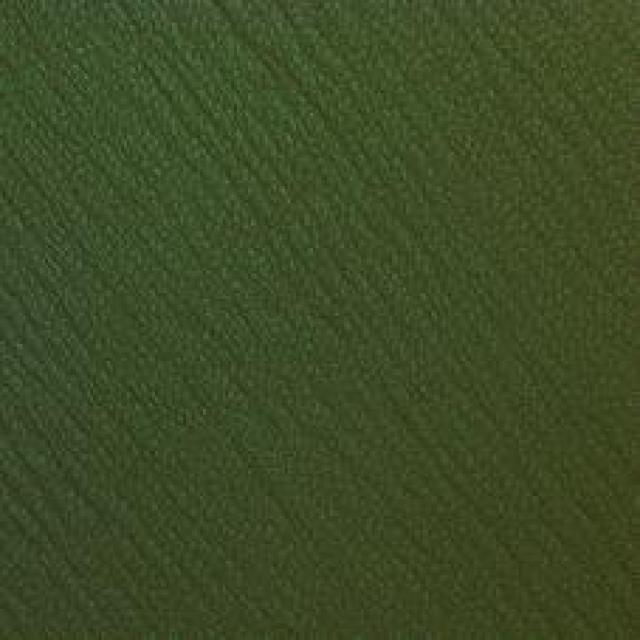Growth Marks: (169, 28, 397, 201), (32, 404, 162, 588)
